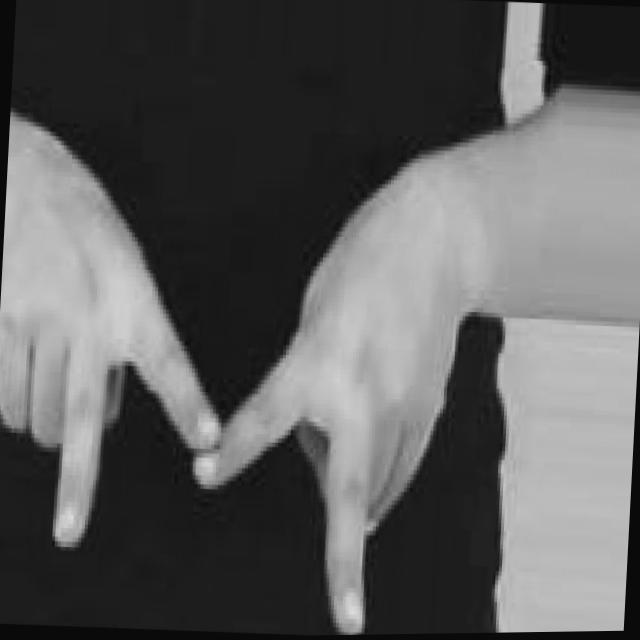M: (0, 131, 462, 640)
